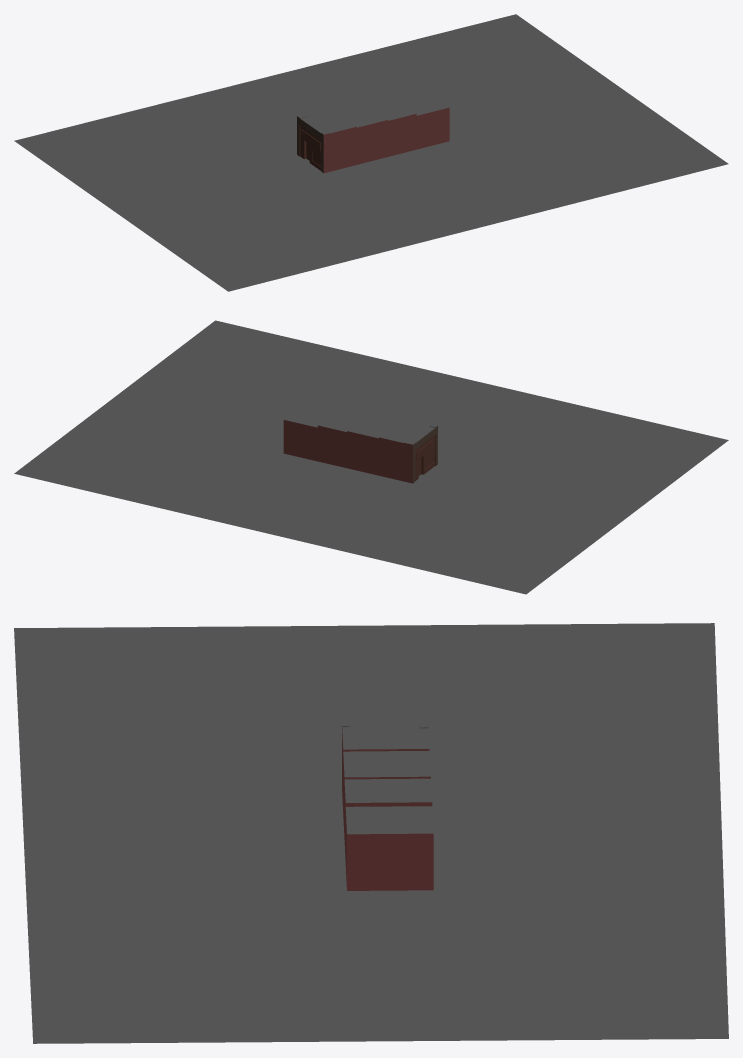
File: chattanooga-cupcakes.glb
3 renders of one model, top to bottom at view 1: azimuth 30°, elevation 25°; view 2: azimuth 150°, elevation 25°; view 3: azimuth 270°, elevation 25°, orthographic. The views are drawn at different scales.
Parts seen in each view (by area): view 1: LOD0; view 2: LOD0; view 3: LOD0.
Part boxes in pixels (<box>): LOD0: <box>14,14,728,291</box>; LOD0: <box>14,320,728,594</box>; LOD0: <box>14,623,728,1043</box>.
Size of what is drawn, in the model's own units: 75.35 by 5.45 by 54.12.
Materials: 1 (1 with a texture image).
